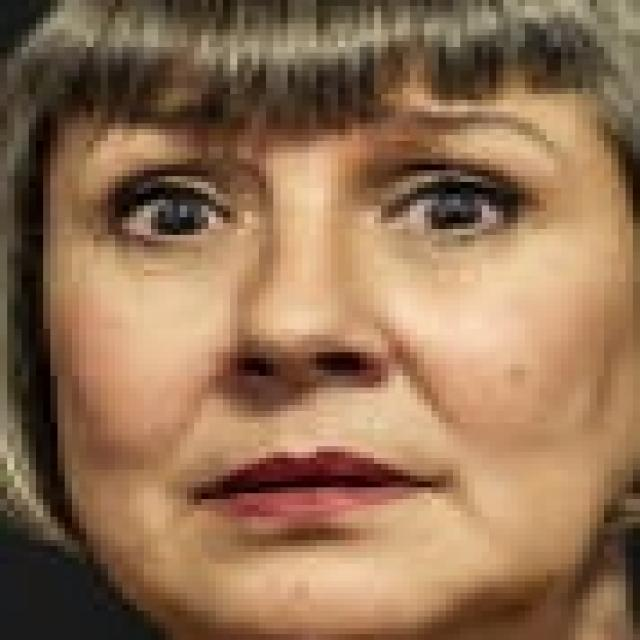Anxiety: (46, 44, 633, 634)
